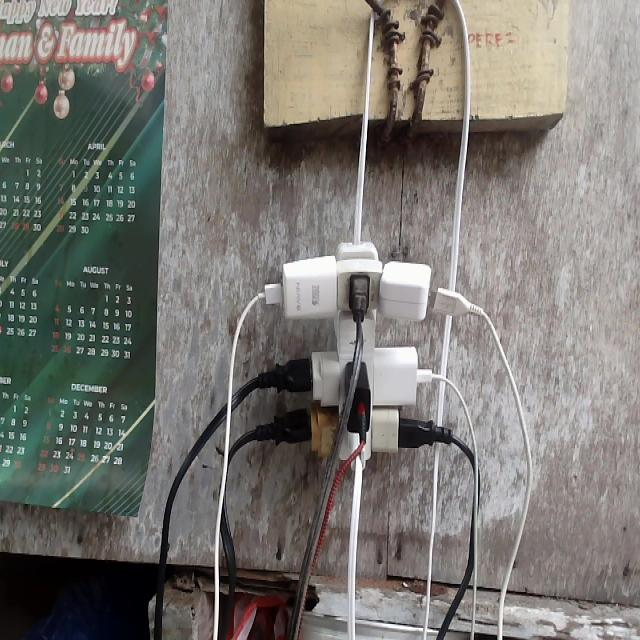-: (267, 233, 444, 475)
